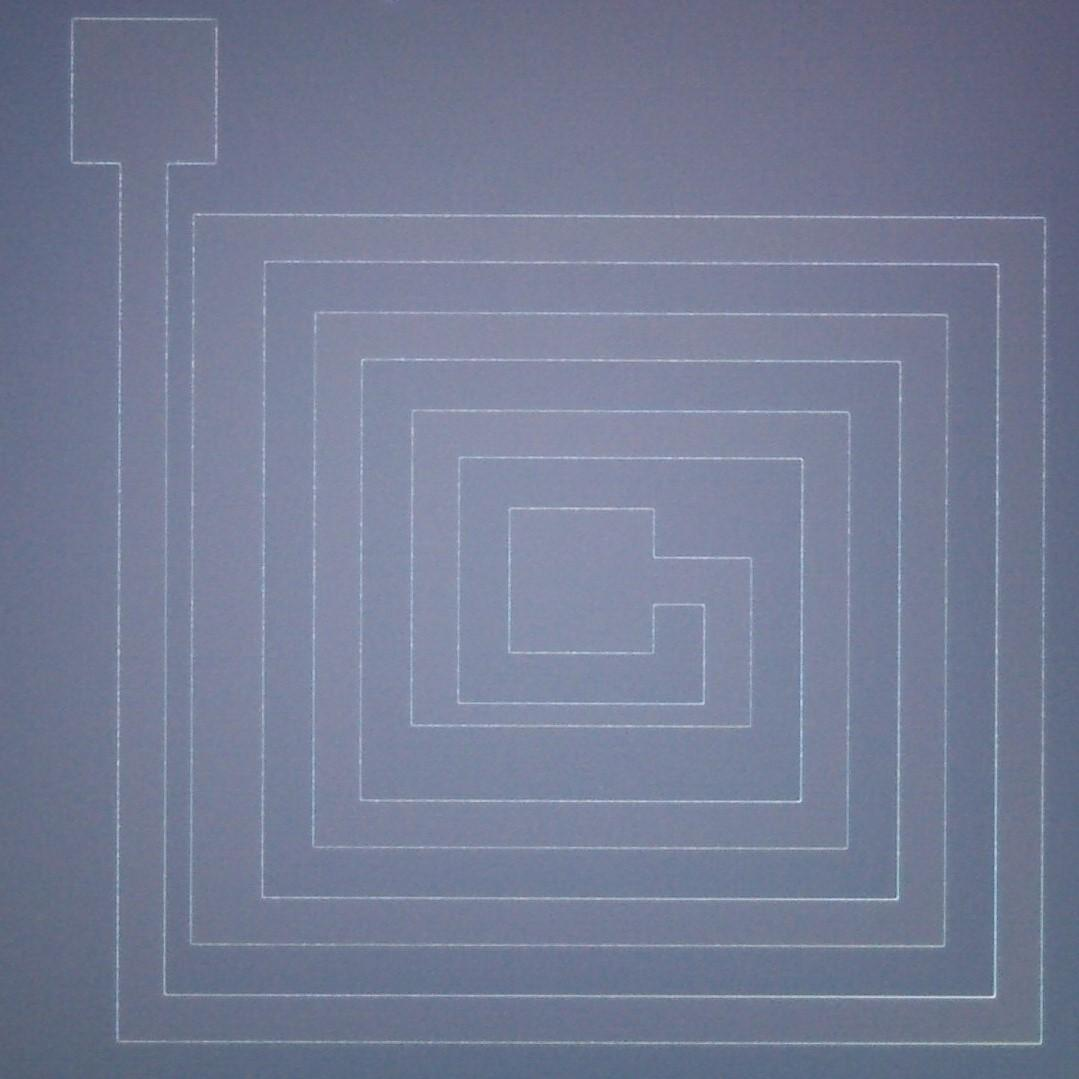width: (79, 207, 384, 987), (521, 572, 638, 865)
